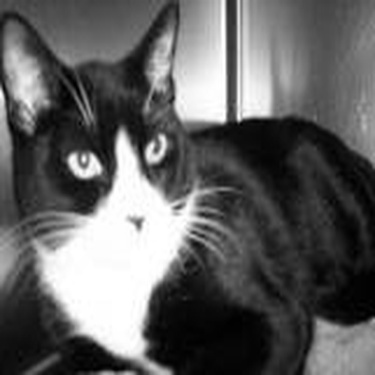cat: (1, 10, 362, 356)
